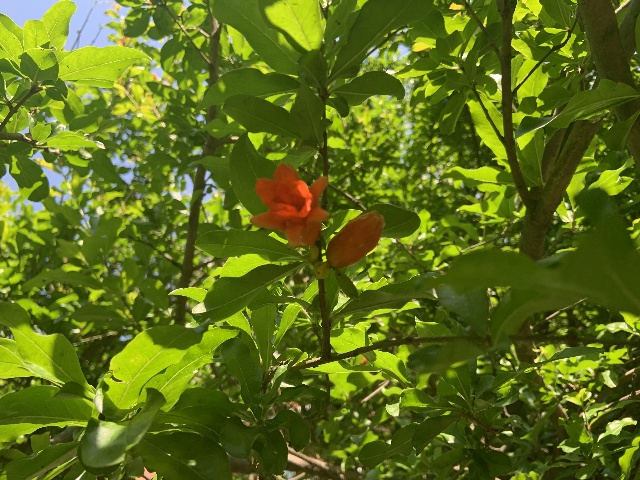bud: (326, 210, 385, 268)
flower: (250, 162, 330, 247)
